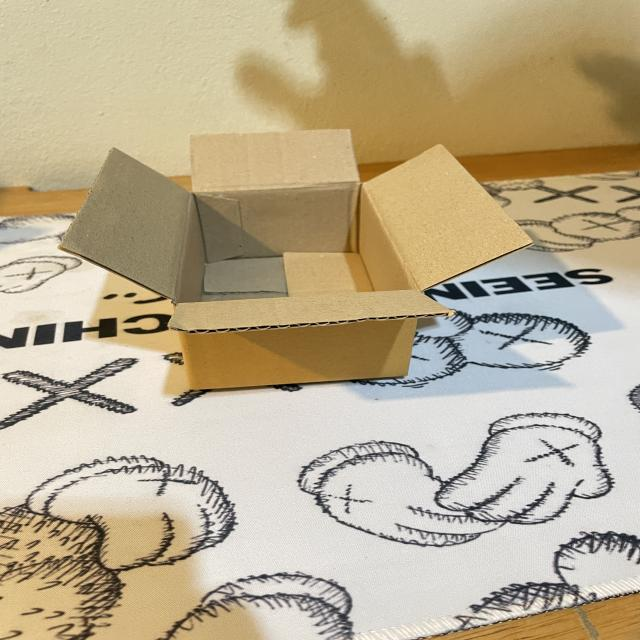box: (57, 127, 534, 392)
opened: (58, 127, 534, 334)
